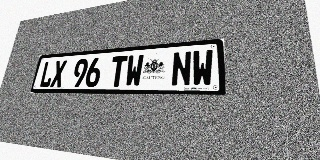6: (84, 57, 103, 87)
9: (71, 58, 89, 87)
L: (39, 61, 56, 87)
N: (171, 51, 192, 87)
T: (109, 55, 128, 87)
W: (192, 49, 213, 86), (124, 54, 144, 87)
X: (50, 60, 67, 87)
